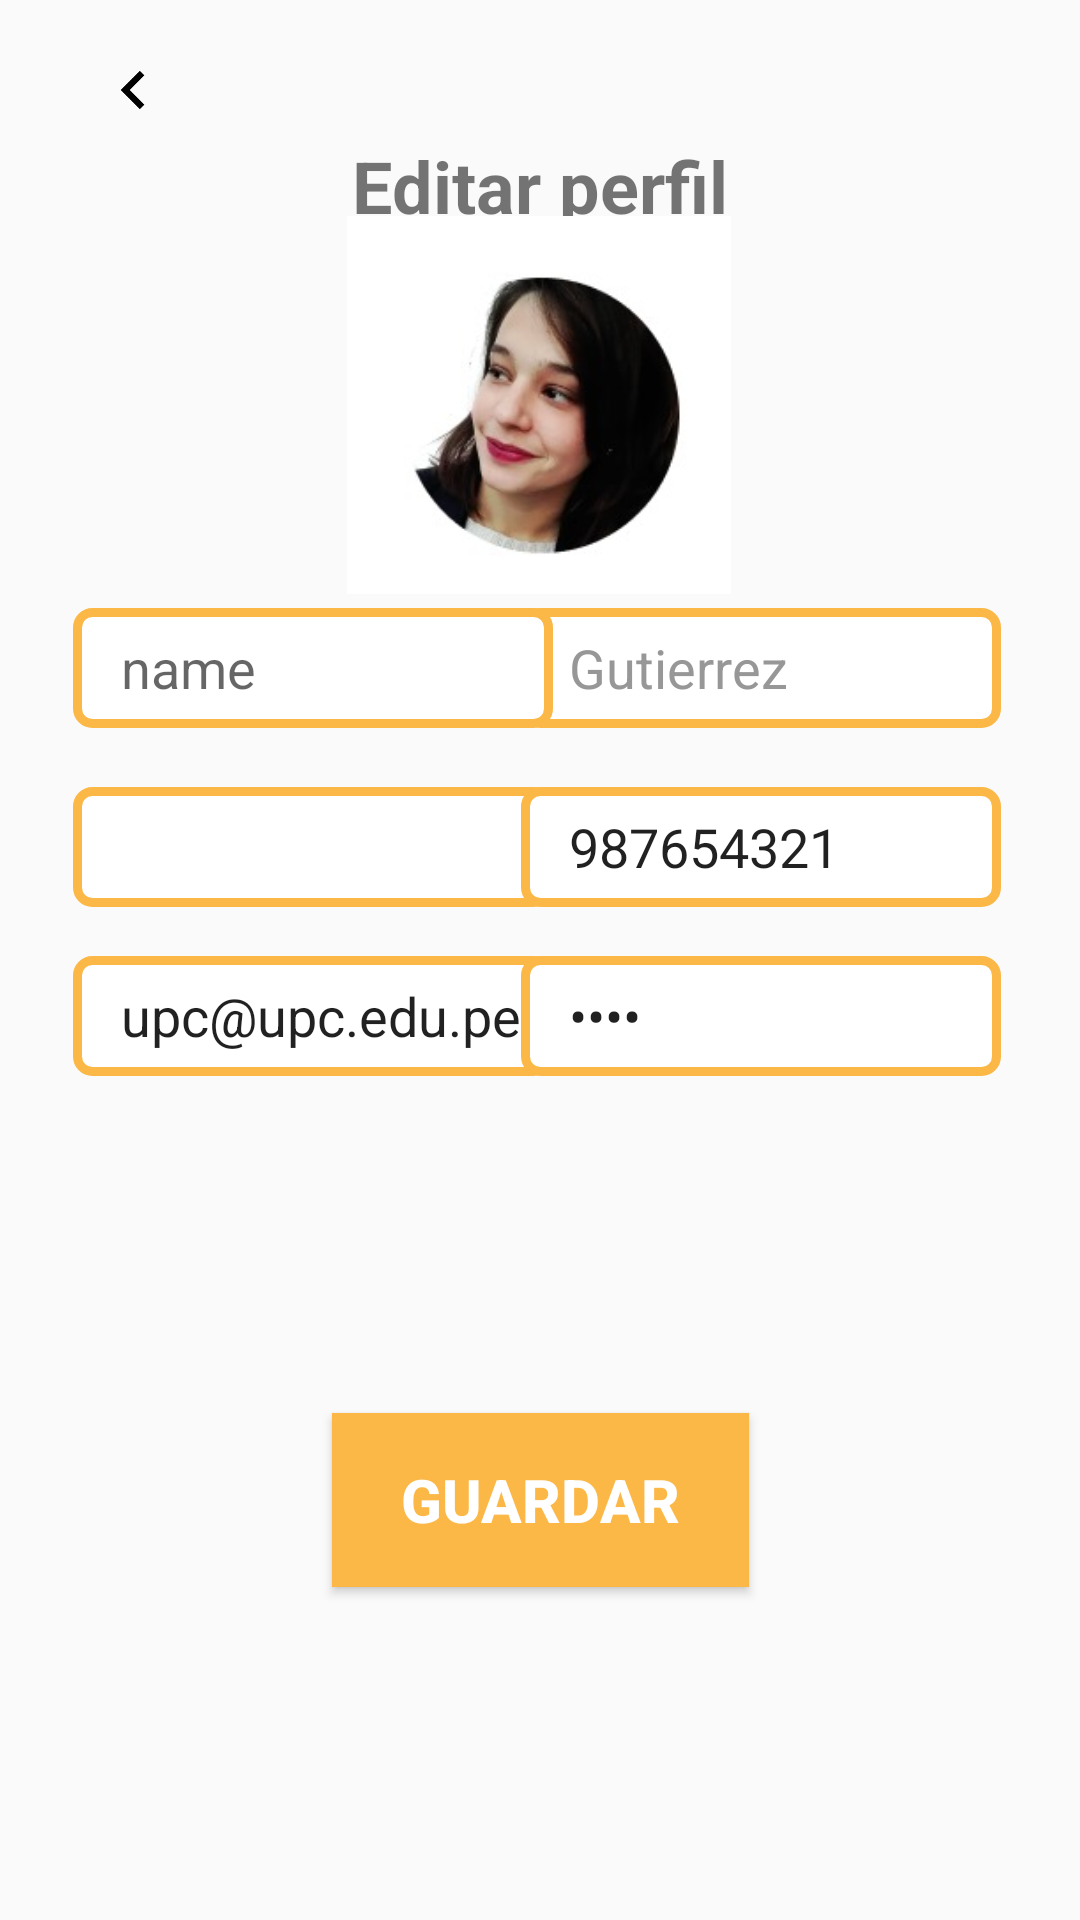

Icon bounding boxes for this 1080px×1920px phone screenshot, format (x1, y1, x2, y2):
leftkey: (121, 71, 145, 109)
